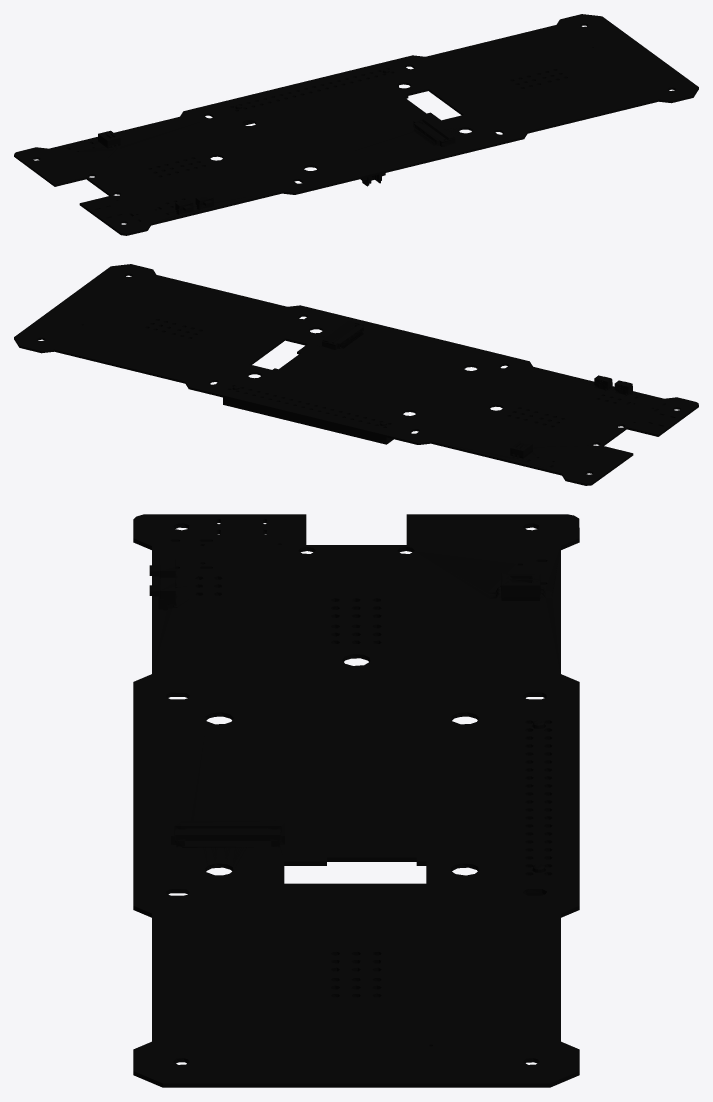
The model's file is Board_PCB.dae.
The picture shows the model from 3 angles, top to bottom: view 1: azimuth 30°, elevation 25°; view 2: azimuth 150°, elevation 25°; view 3: azimuth 270°, elevation 25°; orthographic projection. The views are drawn at different scales.
Parts seen in each view (by area): view 1: Board_PCB; view 2: Board_PCB; view 3: Board_PCB.
Part boxes in pixels (x1,y1,x2,y2): Board_PCB: (14, 14, 698, 235); Board_PCB: (14, 264, 698, 485); Board_PCB: (133, 514, 579, 1087).
Bounding box in the file's own units: 0.181 × 0.06 × 0.0111.
Materials: 1 (1 with a texture image).
